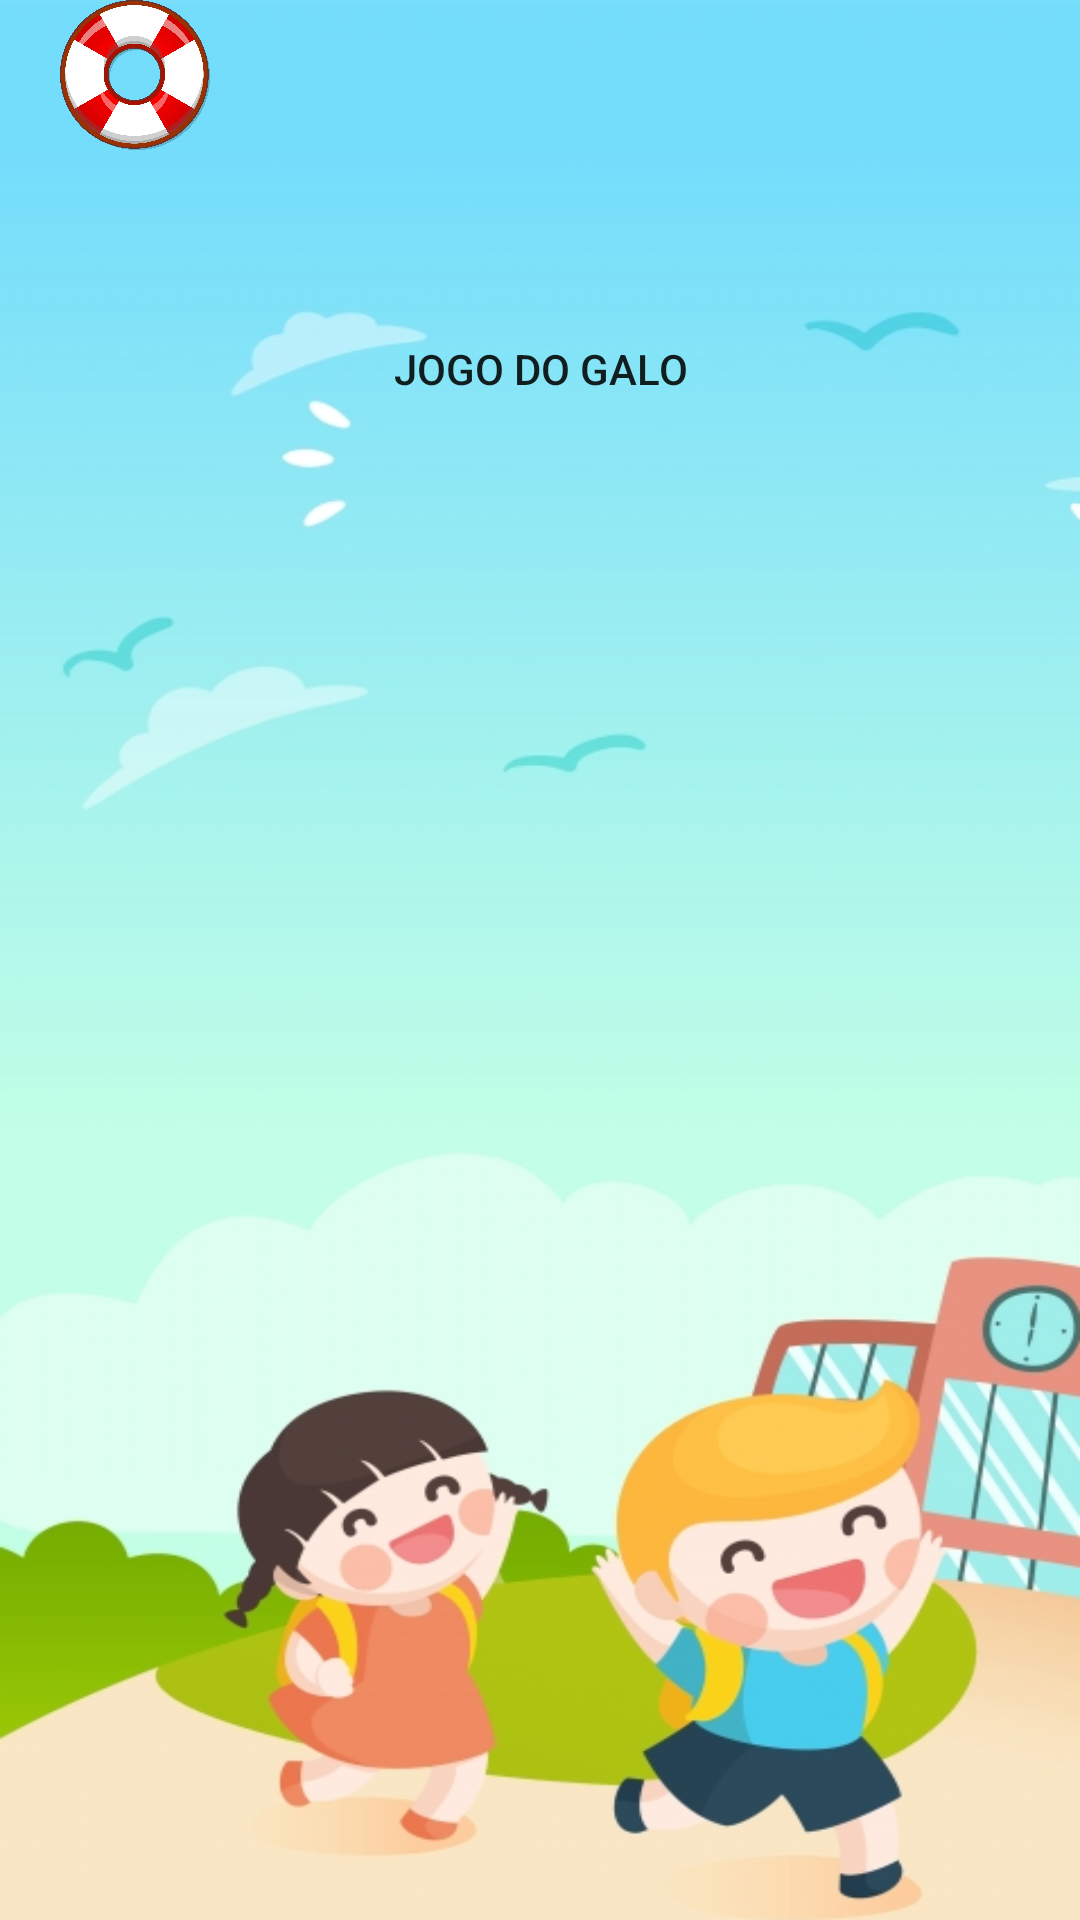

Icons on this 1080×1920 Android screen, each with the point to tap as [x,y]:
help: [135,75]
